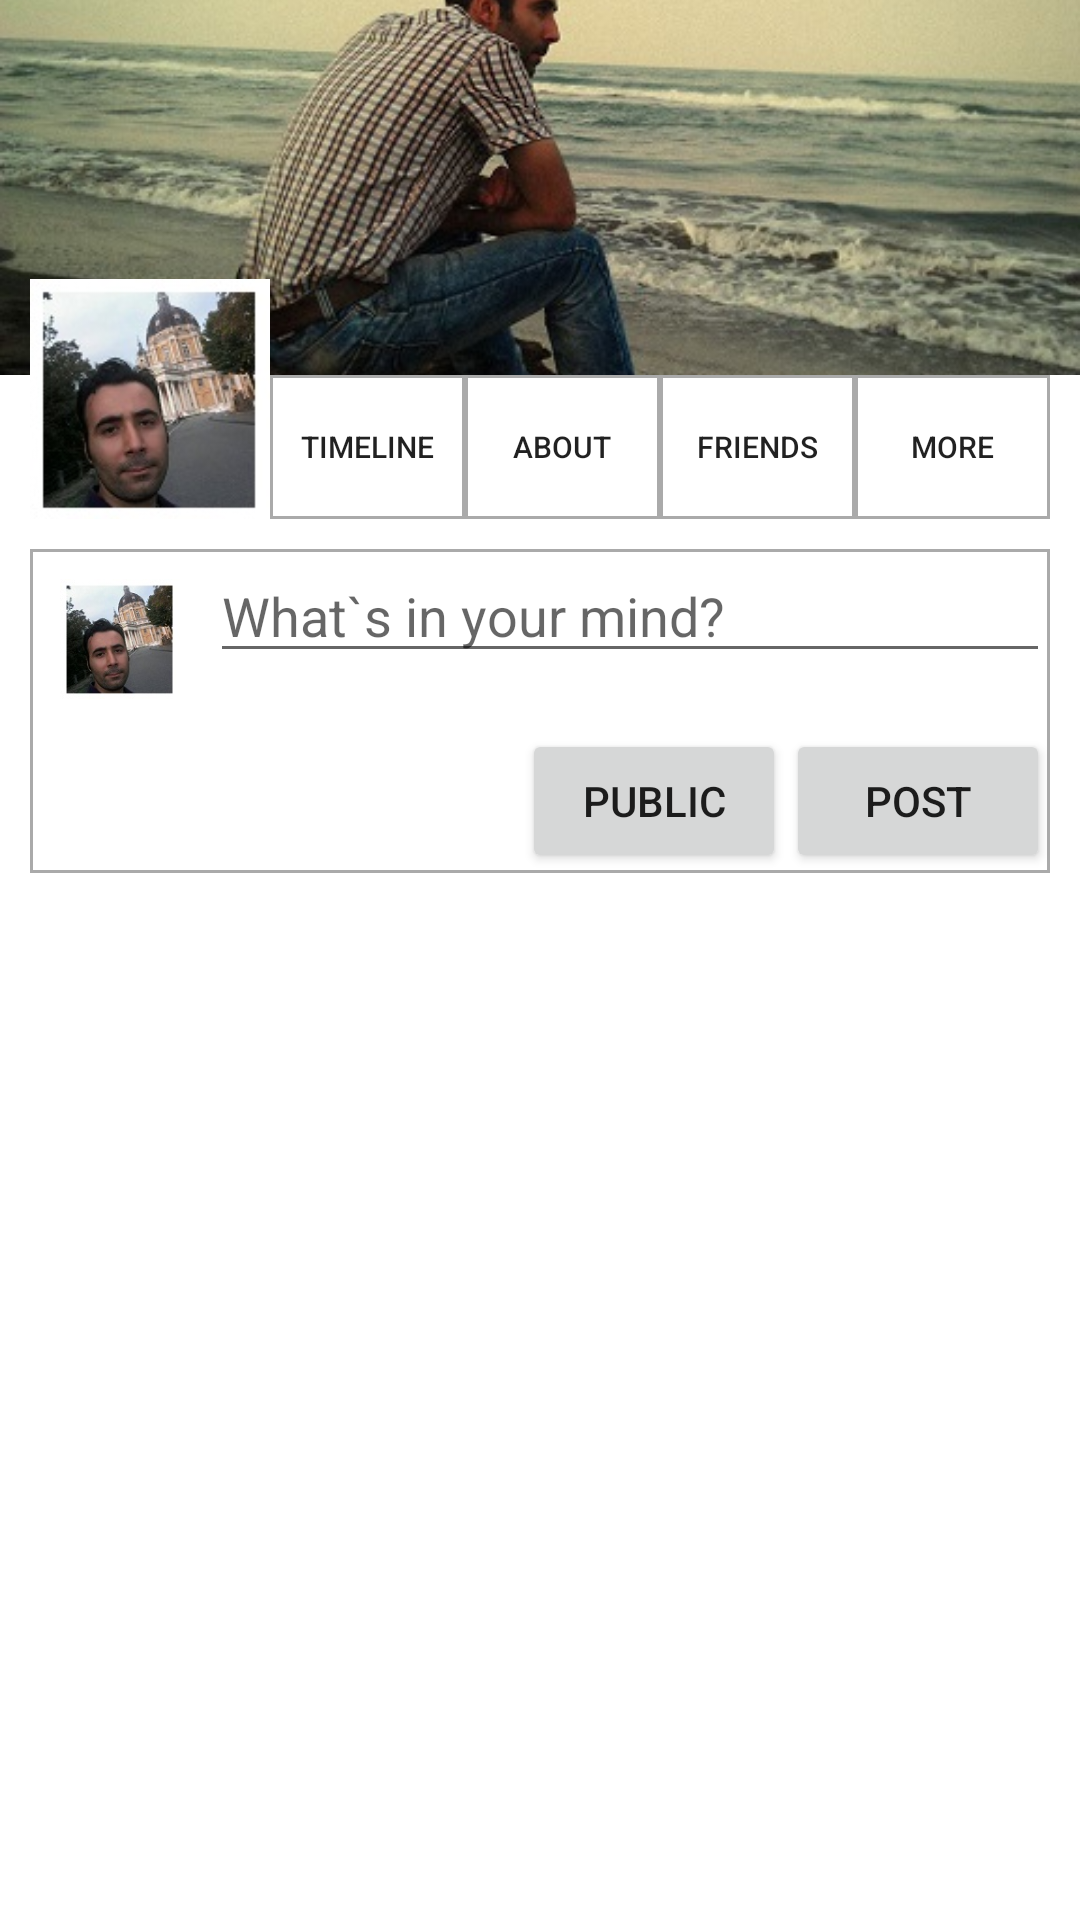

Named icons in this screenshot (1080w x 1920h) and their centers, [x,y]:
photo: [149,400], [119,639]
